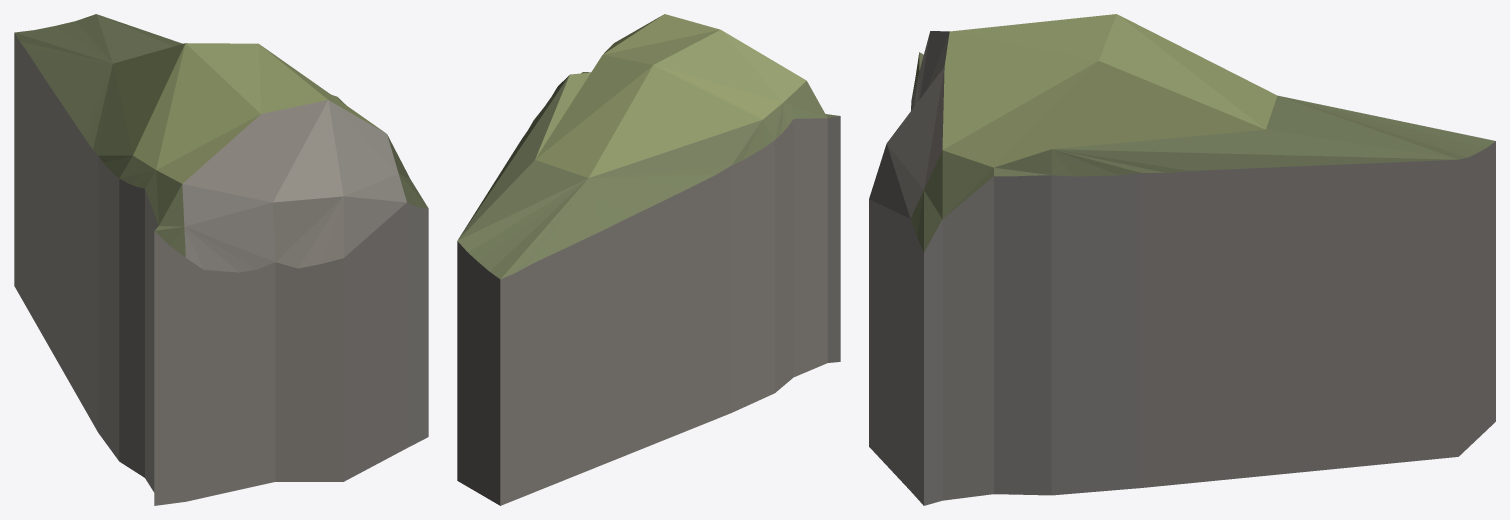
Rendered from cliff_front_columns.glb.
The picture shows the model from 3 angles, left to right: view 1: azimuth 30°, elevation 25°; view 2: azimuth 150°, elevation 25°; view 3: azimuth 270°, elevation 25°; orthographic projection. The views are drawn at different scales.
Visible parts, largest first — view 1: cliff_front_columns; view 2: cliff_front_columns; view 3: cliff_front_columns.
Boxes of the visible parts, bbox=[...] form: cliff_front_columns: bbox=[14, 14, 428, 505]; cliff_front_columns: bbox=[457, 14, 840, 505]; cliff_front_columns: bbox=[869, 14, 1495, 505].
Size of the model in its own units: 54.99 by 70 by 97.56.
